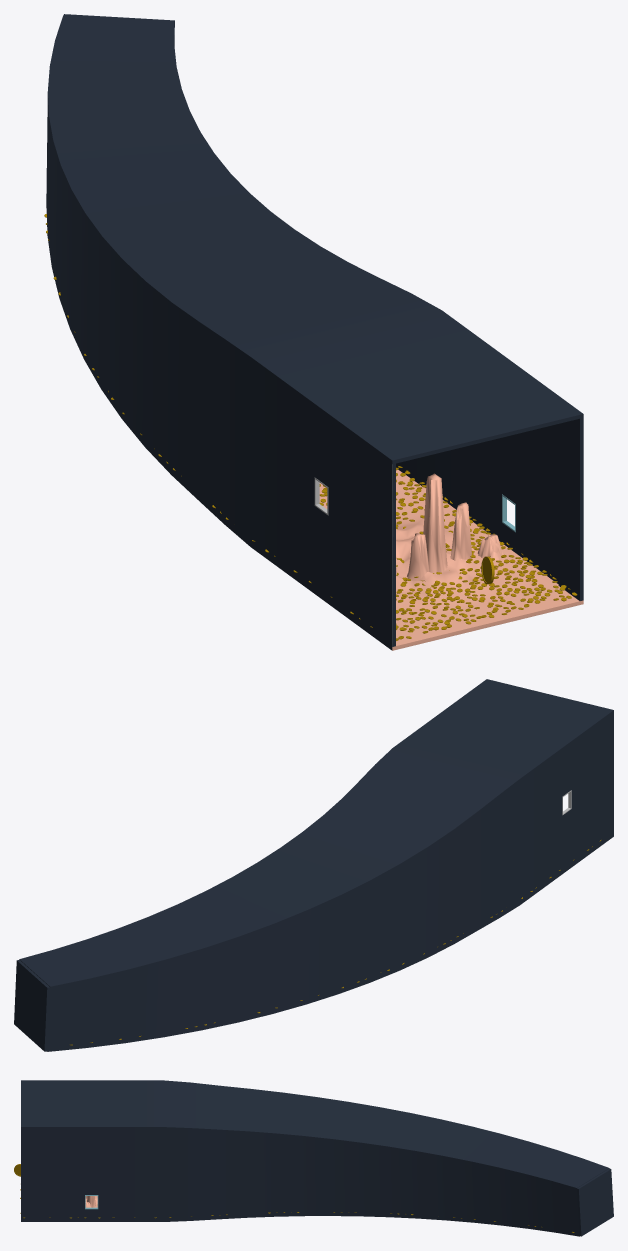
The model's file is coinriver_particles 1.fbx.
3 renders of one model, top to bottom at view 1: azimuth 30°, elevation 25°; view 2: azimuth 150°, elevation 25°; view 3: azimuth 270°, elevation 25°, orthographic. The views are drawn at different scales.
Parts seen in each view (by area): view 1: Cube_5_Null, Ground, Landscape_7, Cube_5_Null_2.001; view 2: Cube_5_Null; view 3: Cube_5_Null.
Part boxes in pixels (left/top/right/bottom): Cube_5_Null: left=46, top=14, right=583, bottom=650; Ground: left=396, top=486, right=558, bottom=624; Landscape_7: left=396, top=473, right=503, bottom=580; Cube_5_Null_2.001: left=319, top=470, right=579, bottom=645; Cube_5_Null: left=14, top=679, right=613, bottom=1051; Cube_5_Null: left=21, top=1080, right=613, bottom=1236.
Size of the model in its own units: 2807 by 1483 by 8478.
